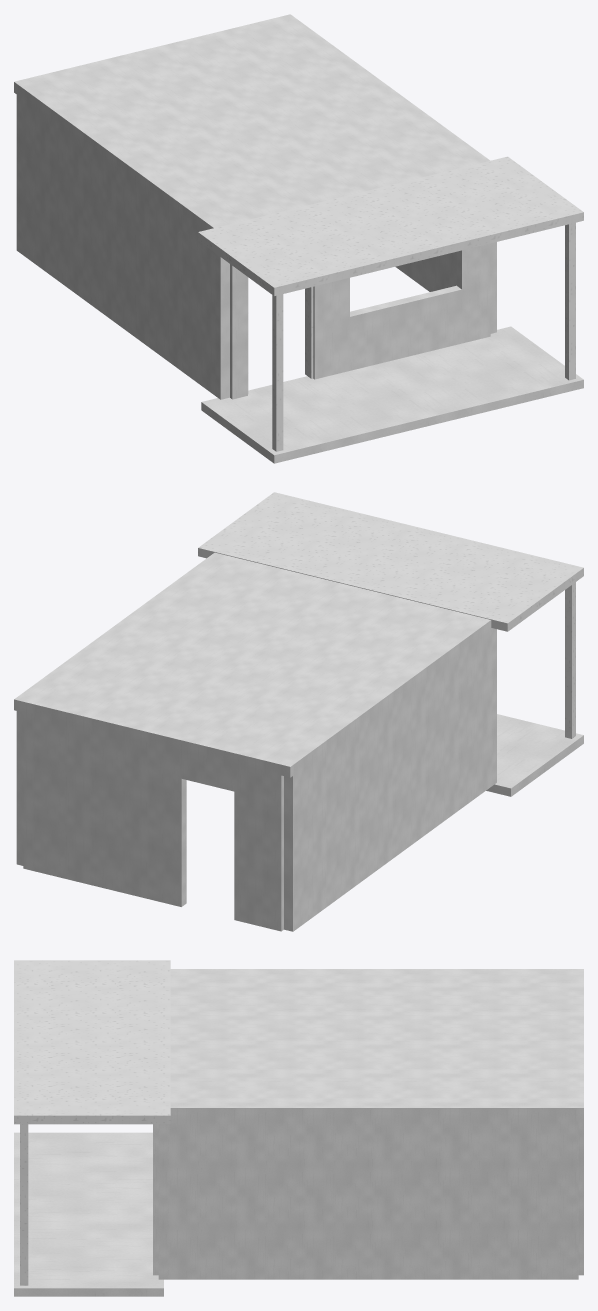
Rendered from SM_Town_Motel_Room6Shell.glb.
3 renders of one model, top to bottom at view 1: azimuth 30°, elevation 25°; view 2: azimuth 150°, elevation 25°; view 3: azimuth 270°, elevation 25°, orthographic. The views are drawn at different scales.
Visible parts, largest first — view 1: SM_Town_Motel_Room6Shell; view 2: SM_Town_Motel_Room6Shell; view 3: SM_Town_Motel_Room6Shell.
Part boxes in pixels (bbox=[...]): SM_Town_Motel_Room6Shell: bbox=[14, 14, 583, 463]; SM_Town_Motel_Room6Shell: bbox=[14, 492, 583, 931]; SM_Town_Motel_Room6Shell: bbox=[14, 960, 583, 1296].
Size of the model in its own units: 5.4 by 2.93 by 8.36.
Materials: 5 (5 with a texture image).
